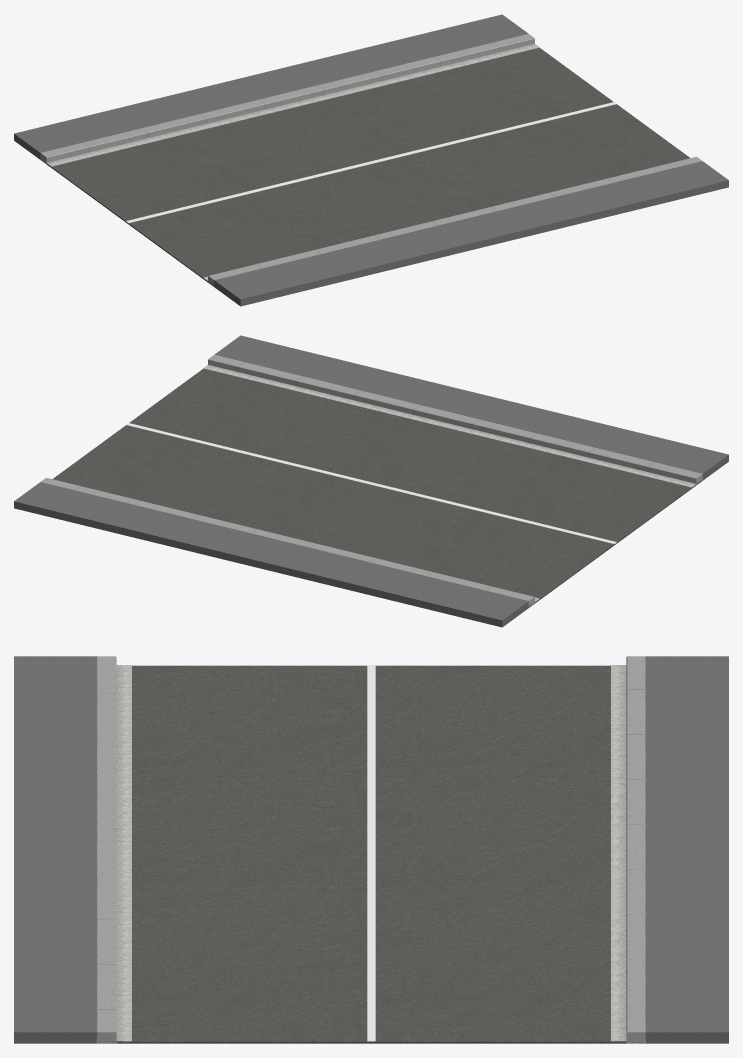
File: route2VoiesAvecTrottoirs.glb
3 views of the same model, one above another, from view 1: azimuth 30°, elevation 25°; view 2: azimuth 150°, elevation 25°; view 3: azimuth 270°, elevation 25° (orthographic). The views are drawn at different scales.
Size of the model in its own units: 1300 by 18.01 by 1045.
Materials: 4 (3 with a texture image).
